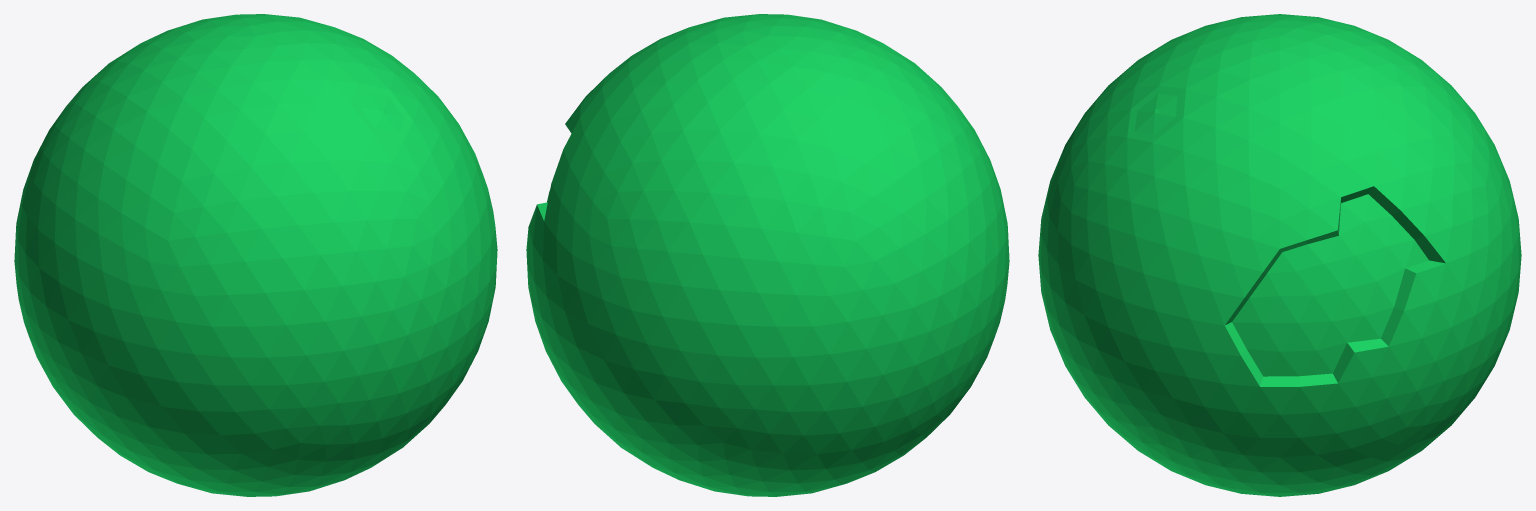
File: Water.fbx
The picture shows the model from 3 angles, left to right: view 1: azimuth 30°, elevation 25°; view 2: azimuth 150°, elevation 25°; view 3: azimuth 270°, elevation 25°; orthographic projection.
Parts seen in each view (by area): view 1: Icosphere; view 2: Icosphere; view 3: Icosphere.
Boxes of the visible parts, box(x1,y1,x2,y2) form: Icosphere: box(14, 14, 497, 496); Icosphere: box(526, 14, 1009, 496); Icosphere: box(1038, 14, 1521, 496).
Size of the model in its own units: 994 by 1000 by 1000.
